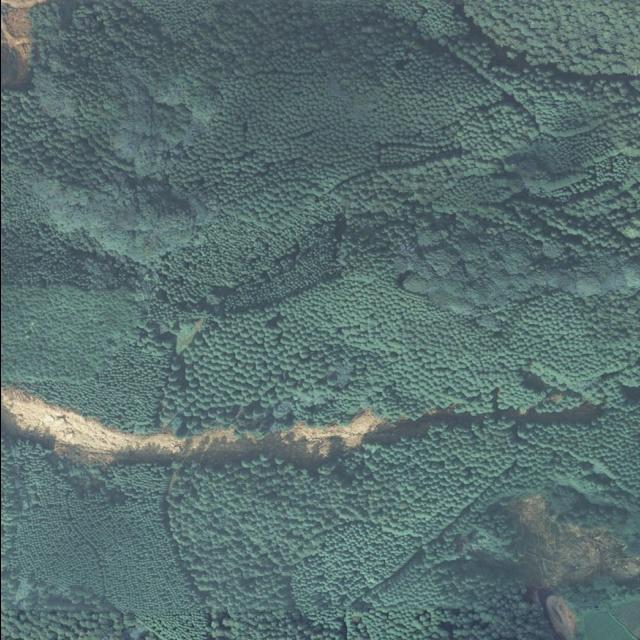landslide: (0, 388, 386, 466)
